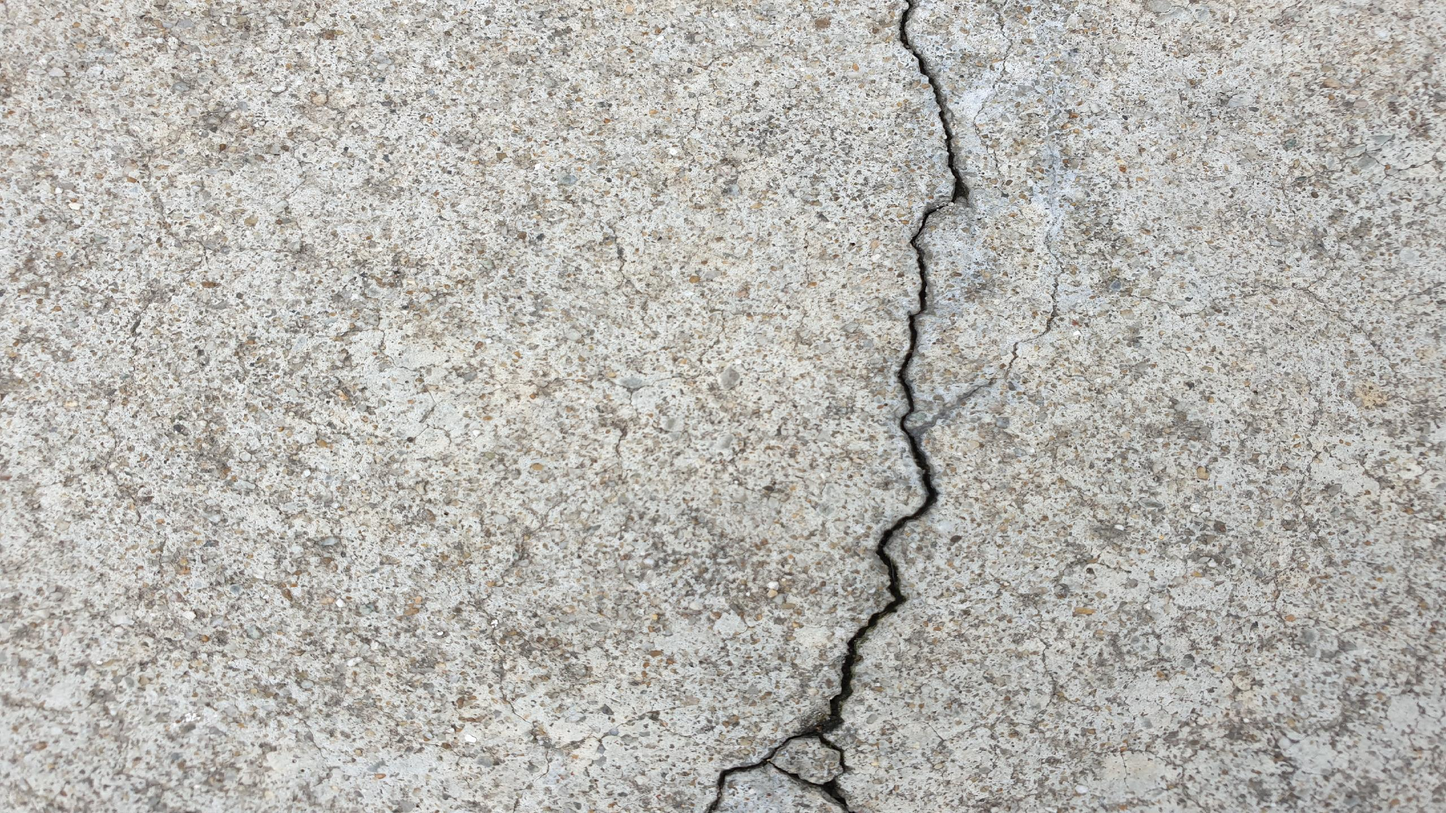crack: (706, 5, 970, 811)
